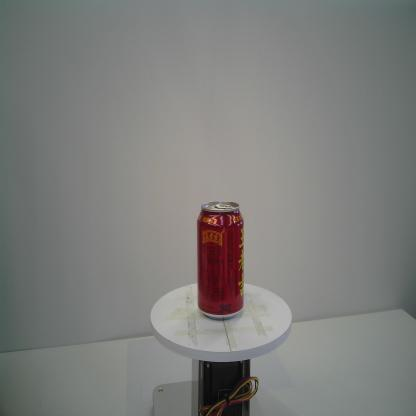Drink: (196, 200, 245, 321)
